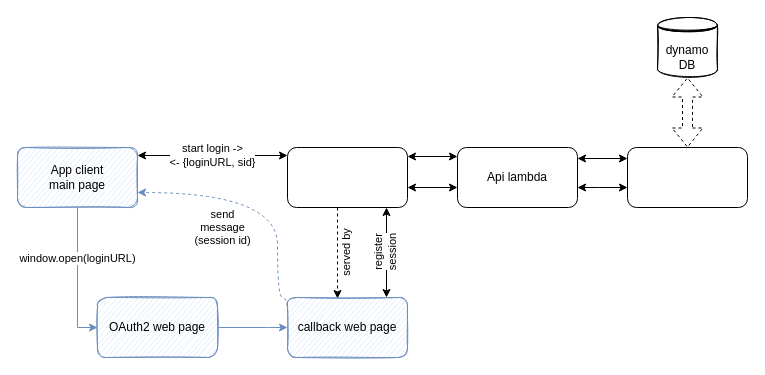
This 765x375 diagram has some shape labels left out. The shapes that lost their labels are listed below. From the top down, each one's box as (x1, y1, x2, y2) in pixels, then its label:
(286, 146, 408, 208): API GW
(626, 146, 748, 208): TM lambda
